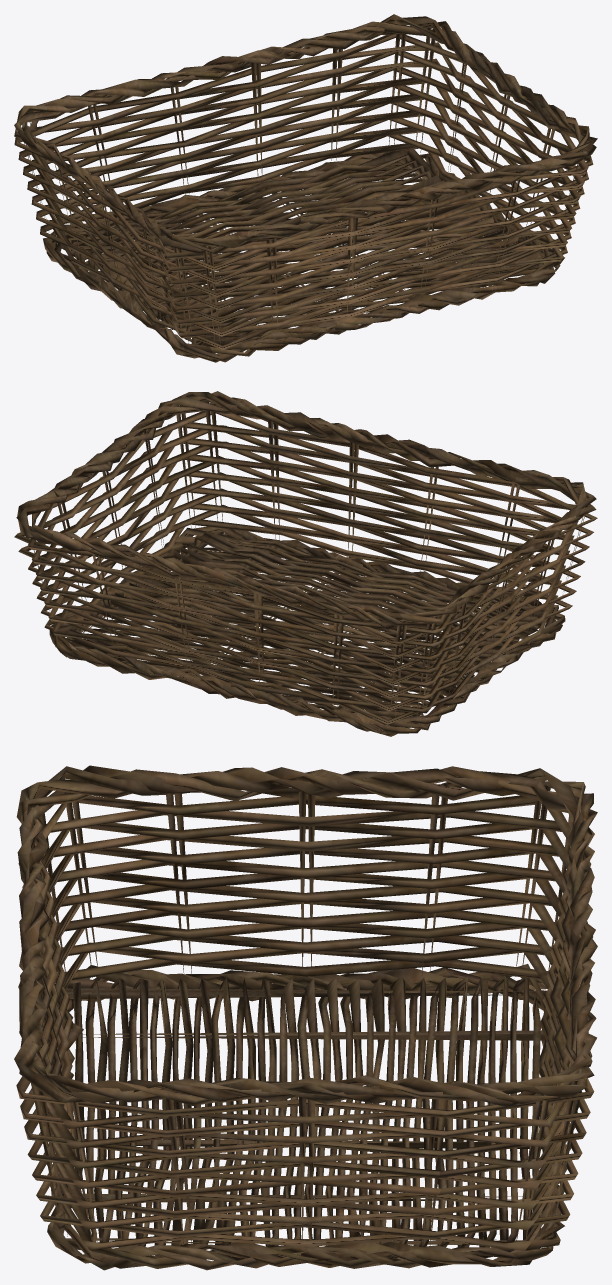
The model's file is wicker_basket_01.glb.
The picture shows the model from 3 angles, top to bottom: view 1: azimuth 30°, elevation 25°; view 2: azimuth 150°, elevation 25°; view 3: azimuth 270°, elevation 25°; orthographic projection. The views are drawn at different scales.
Visible parts, largest first — view 1: wicker_basket_01; view 2: wicker_basket_01; view 3: wicker_basket_01.
Part boxes in pixels (left/top/right/bottom): wicker_basket_01: left=14, top=14, right=597, bottom=362; wicker_basket_01: left=14, top=391, right=597, bottom=736; wicker_basket_01: left=14, top=765, right=597, bottom=1270.
Bounding box in the file's own units: 0.3849 × 0.1181 × 0.2936.
Materials: 1 (1 with a texture image).
